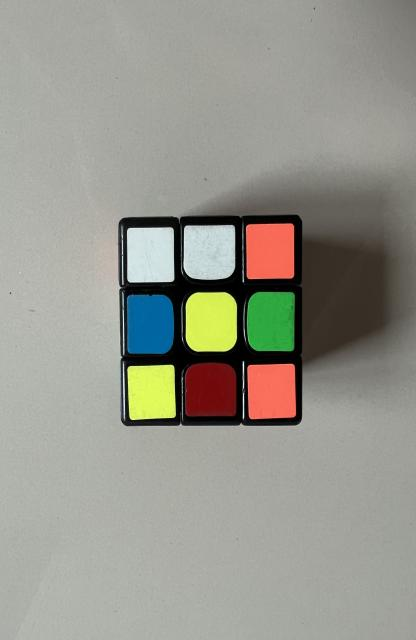Blue: (127, 295, 174, 354)
Green: (247, 291, 295, 351)
Orange: (246, 224, 295, 279), (247, 364, 296, 419)
Red: (185, 362, 236, 418)
White: (183, 225, 235, 280), (127, 228, 174, 282)
Yellow: (185, 292, 237, 352), (127, 365, 177, 420)
